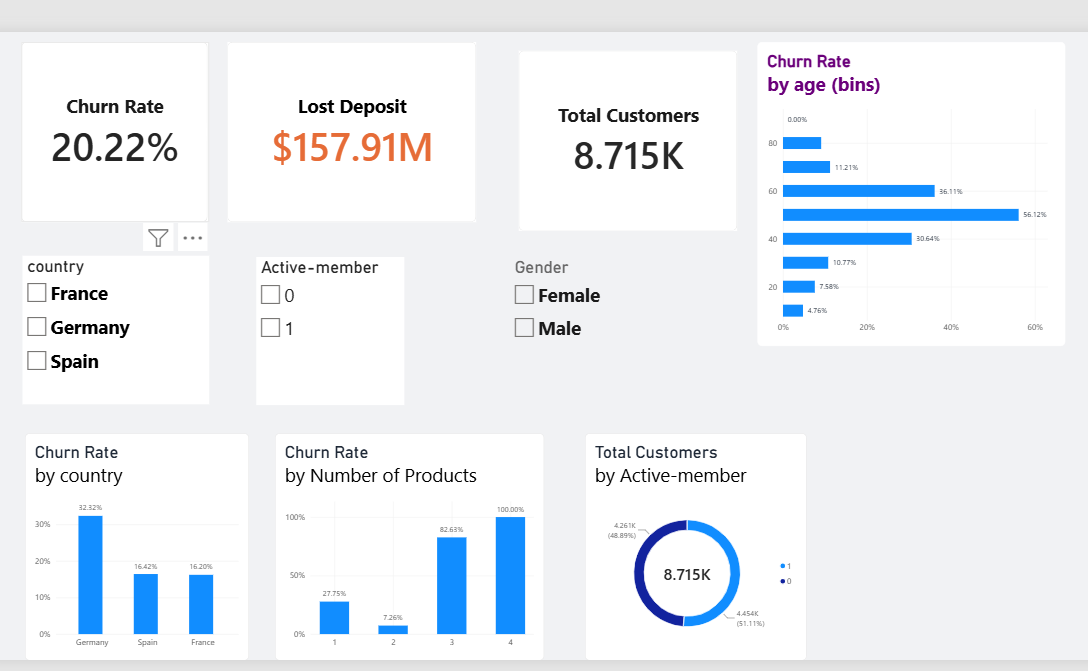

The dashboard page shown, as its layout file describes it:
{"tool":"powerbi","page":{"name":"Page 1","canvas":[1920,1080],"ordinal":0},"visuals":[{"type":"cardVisual","fields":{"Data":["bank_churn_clean.Churn Rate"]},"box":[63.2,16.9,320.4,309.9],"z":0},{"type":"cardVisual","fields":{"Data":["bank_churn_clean.Lost Deposit"]},"box":[416.6,17.2,427.4,309.3],"z":1},{"type":"slicer","fields":{"Values":["bank_churn_clean.Column7"]},"box":[64,384,321.1,255.1],"z":2},{"type":"slicer","fields":{"Values":["bank_churn_clean.Column16"]},"box":[465.7,386.2,254.5,254.5],"z":3},{"type":"slicer","fields":{"Values":["bank_churn_clean.Column8"]},"box":[902.6,386.2,255,255],"z":4},{"type":"clusteredColumnChart","fields":{"Category":["bank_churn_clean.Column7"],"Y":["bank_churn_clean.Churn Rate"]},"box":[68.4,688.6,384.7,390.3],"z":6},{"type":"clusteredColumnChart","fields":{"Category":["bank_churn_clean.Column14"],"Y":["bank_churn_clean.Churn Rate"]},"box":[498.8,688.6,462.1,390.3],"z":7},{"type":"donutChart","fields":{"Category":["bank_churn_clean.Column16"],"Y":["bank_churn_clean.Total Customers"]},"box":[1030.6,688.6,381.1,390.3],"z":8},{"type":"cardVisual","fields":{"Data":["bank_churn_clean.Total Customers"]},"box":[917,32.2,375.5,309.3],"z":9},{"type":"clusteredBarChart","fields":{"Category":["bank_churn_clean.age (bins)"],"Y":["bank_churn_clean.Churn Rate"]},"box":[1327.5,17.6,528.8,522.2],"z":10}]}

Visuals, with their boxes on the page's 1920x1080 design canvas (x1, y1, x2, y2). These are canvas units, not pixel positions in the 1088x671 screenshot, which may show the page scaled, cropped or inside an application window:
cardVisual - bank_churn_clean.Churn Rate: <region>63, 17, 384, 327</region>
cardVisual - bank_churn_clean.Lost Deposit: <region>417, 17, 844, 326</region>
slicer - bank_churn_clean.Column7: <region>64, 384, 385, 639</region>
slicer - bank_churn_clean.Column16: <region>466, 386, 720, 641</region>
slicer - bank_churn_clean.Column8: <region>903, 386, 1158, 641</region>
clusteredColumnChart - bank_churn_clean.Column7 x bank_churn_clean.Churn Rate: <region>68, 689, 453, 1079</region>
clusteredColumnChart - bank_churn_clean.Column14 x bank_churn_clean.Churn Rate: <region>499, 689, 961, 1079</region>
donutChart - bank_churn_clean.Column16 x bank_churn_clean.Total Customers: <region>1031, 689, 1412, 1079</region>
cardVisual - bank_churn_clean.Total Customers: <region>917, 32, 1292, 342</region>
clusteredBarChart - bank_churn_clean.age (bins) x bank_churn_clean.Churn Rate: <region>1328, 18, 1856, 540</region>
